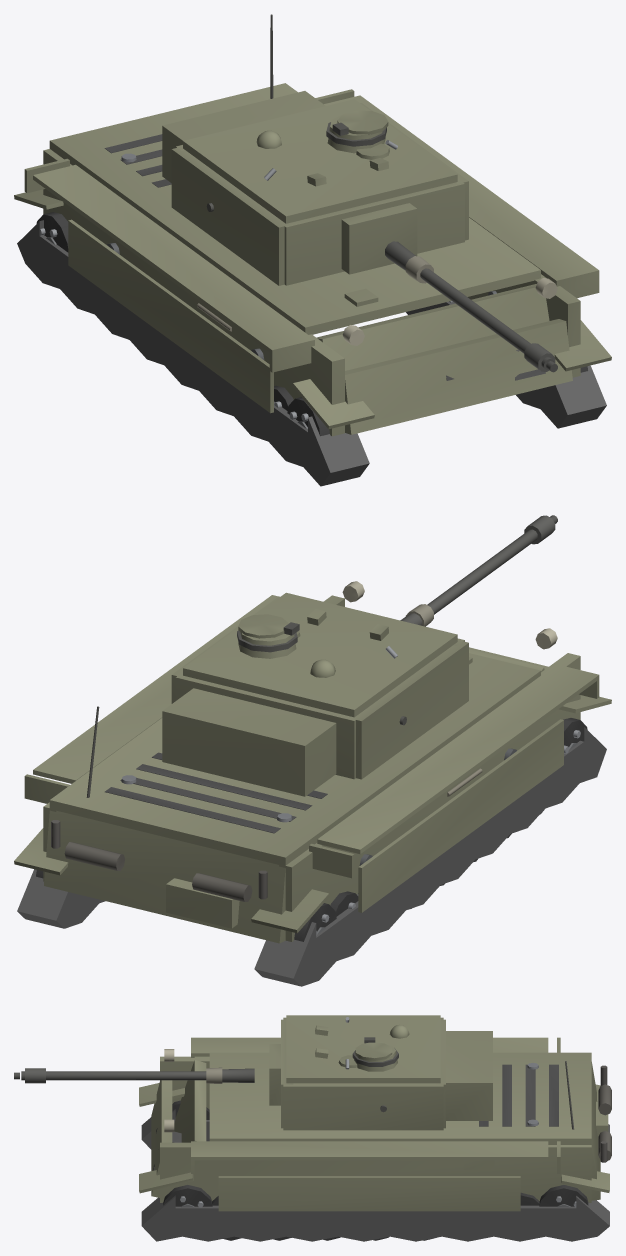
The model's file is m1abrams.glb.
The picture shows the model from 3 angles, top to bottom: view 1: azimuth 30°, elevation 25°; view 2: azimuth 150°, elevation 25°; view 3: azimuth 270°, elevation 25°; orthographic projection. The views are drawn at different scales.
Parts seen in each view (by area): view 1: hullSide, hullTop, tracks, turretRoof, lowerPlate, turretFront, glacis, turretSide, mantlet, barrel, wheel8, wheel7; view 2: hullSide, hullTop, turretRoof, tracks, hullRear, turretFront, turretSide, turretRear, barrel, wheel8; view 3: hullSide, hullTop, tracks, turretRoof, turretSide, turretFront, barrel, hullRear, glacis, lowerPlate, wheel17, wheel16 (+2 smaller).
Boxes of the visible parts, <box> form: hullSide: <box>24,89,599,436</box>; hullTop: <box>49,83,540,334</box>; tracks: <box>14,189,611,486</box>; turretRoof: <box>183,99,457,223</box>; lowerPlate: <box>345,319,572,434</box>; turretFront: <box>162,91,464,285</box>; glacis: <box>316,284,549,380</box>; turretSide: <box>171,103,468,285</box>; mantlet: <box>341,203,417,274</box>; barrel: <box>385,241,557,372</box>; wheel8: <box>36,212,68,252</box>; wheel7: <box>287,397,329,436</box>; hullSide: <box>24,581,599,941</box>; hullTop: <box>49,653,540,866</box>; turretRoof: <box>183,592,457,717</box>; tracks: <box>14,695,611,986</box>; hullRear: <box>44,706,285,943</box>; turretFront: <box>162,638,464,796</box>; turretSide: <box>171,596,468,779</box>; turretRear: <box>175,674,359,779</box>; barrel: <box>400,515,557,626</box>; wheel8: <box>294,903,336,941</box>; hullSide: <box>160,1037,591,1211</box>; hullTop: <box>209,1052,591,1144</box>; tracks: <box>139,1083,609,1241</box>; turretRoof: <box>286,1015,440,1083</box>; turretSide: <box>283,1017,443,1130</box>; turretFront: <box>281,1019,492,1128</box>; barrel: <box>14,1067,254,1083</box>; hullRear: <box>565,1061,611,1200</box>; glacis: <box>153,1060,206,1170</box>; lowerPlate: <box>151,1080,172,1197</box>; wheel17: <box>539,1185,588,1207</box>; wheel16: <box>163,1185,212,1207</box>.
Bounding box in the file's own units: 4.58 × 2.92 × 9.7.
